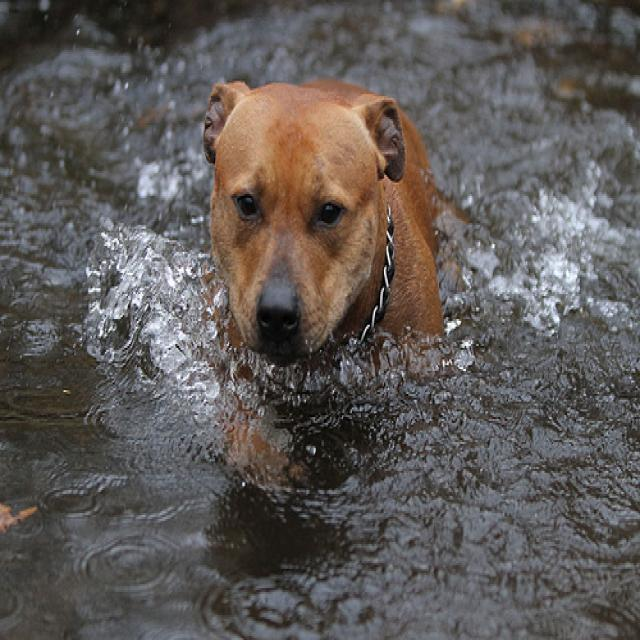dog-staffordshire_bull_terrier: (195, 67, 454, 484)
